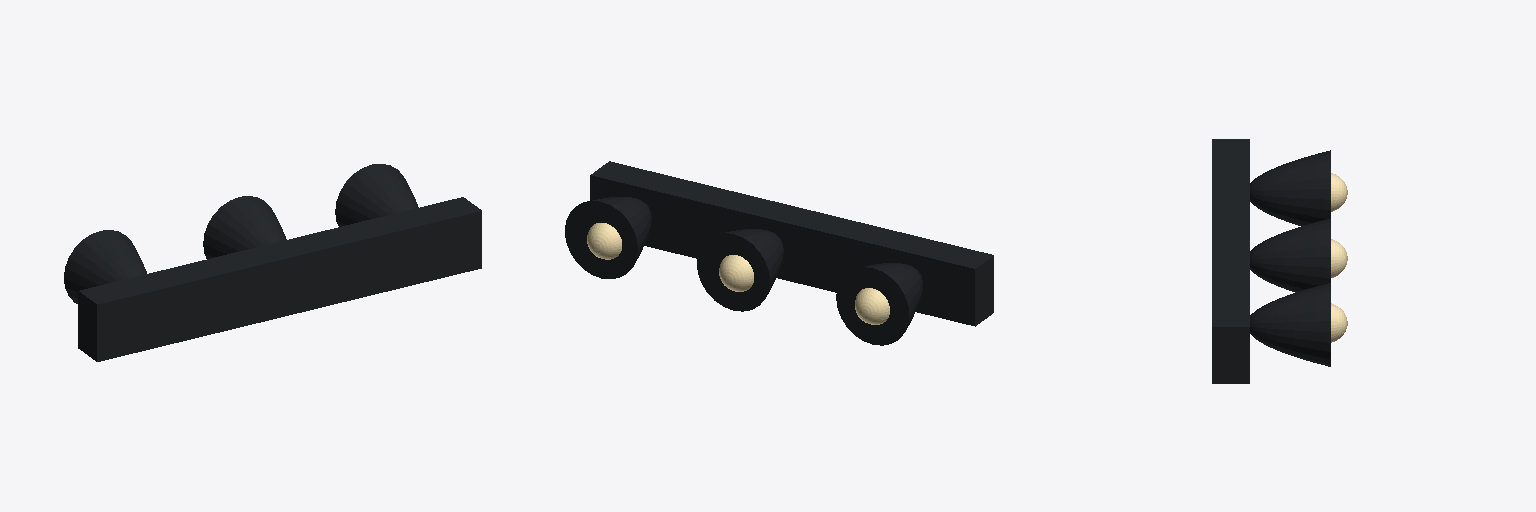
File: tinker 1.obj
3 renders of one model, left to right at view 1: azimuth 30°, elevation 25°; view 2: azimuth 150°, elevation 25°; view 3: azimuth 270°, elevation 25°, orthographic.
Parts seen in each view (by area): view 1: obj_0; view 2: obj_0; view 3: obj_0.
Boxes of the visible parts, x1,y1,x2,y2 form: obj_0: [64, 164, 481, 361]; obj_0: [565, 161, 993, 345]; obj_0: [1212, 139, 1347, 383].
Bounding box in the file's own units: 105 × 20 × 32.